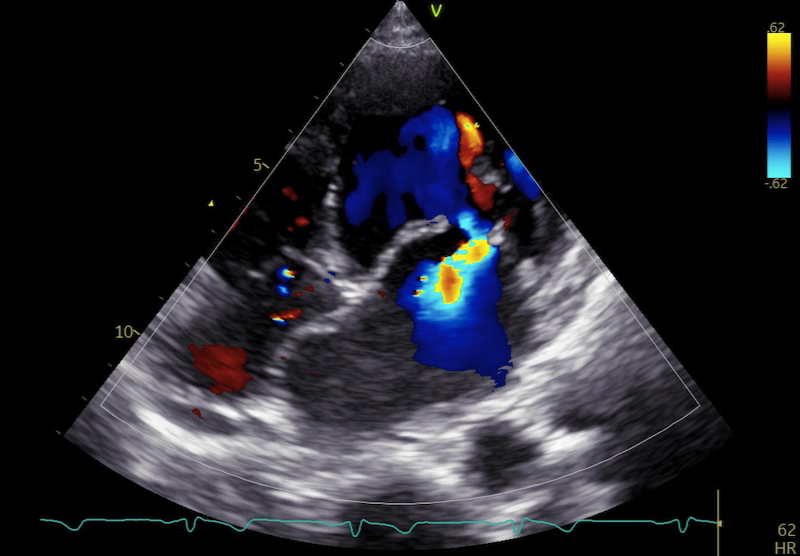MR: (367, 214, 516, 311)
